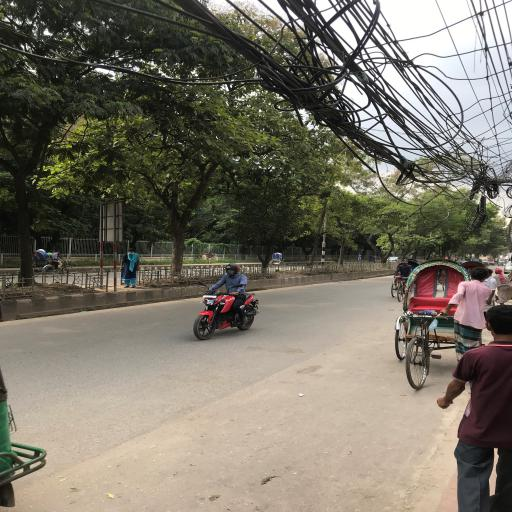motorbike: (192, 263, 262, 343)
rickshaw: (391, 258, 470, 389), (391, 260, 421, 304), (32, 249, 75, 279), (269, 253, 286, 268)
